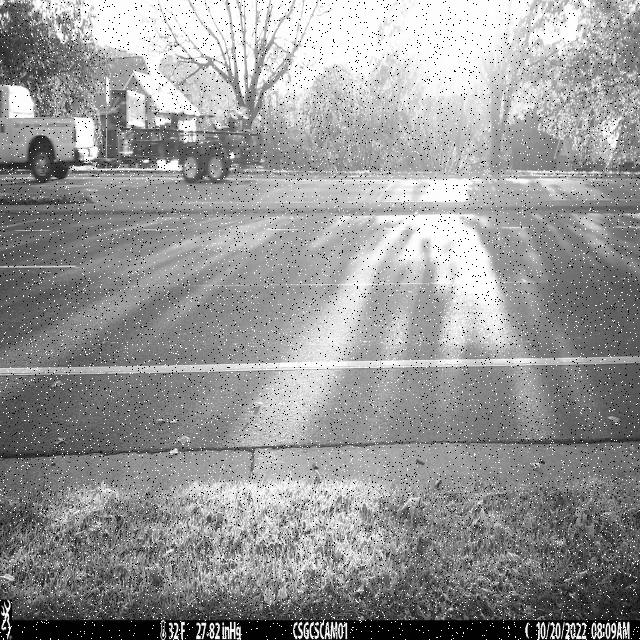Trailer: (93, 128, 261, 183)
